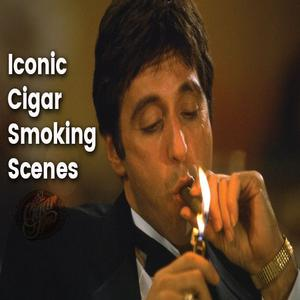cigarette: (178, 185, 205, 216)
